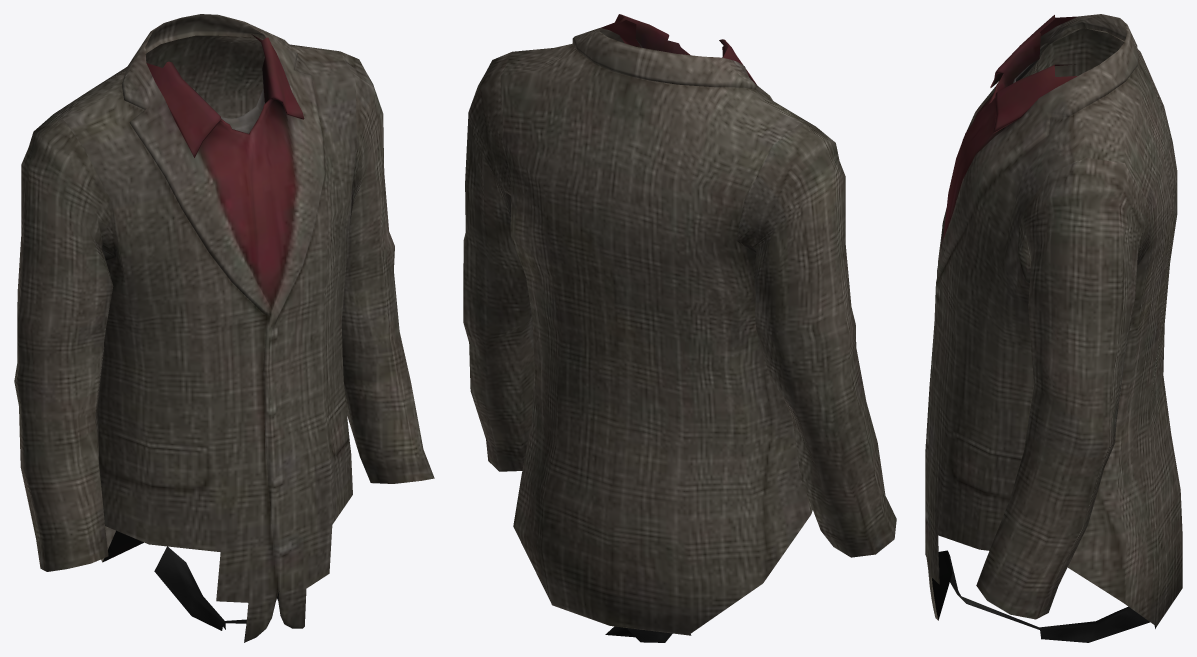
Rendered from coat.glb.
3 views of the same model, side by side, from view 1: azimuth 30°, elevation 25°; view 2: azimuth 150°, elevation 25°; view 3: azimuth 270°, elevation 25° (orthographic). The views are drawn at different scales.
Parts seen in each view (by area): view 1: coat; view 2: coat; view 3: coat.
Boxes of the visible parts, left/top/right/bottom form: coat: left=14, top=14, right=434, bottom=642; coat: left=463, top=14, right=896, bottom=642; coat: left=925, top=14, right=1182, bottom=642.
Bounding box in the file's own units: 0.5605 × 0.8084 × 0.3119.
Materials: 1 (1 with a texture image).
